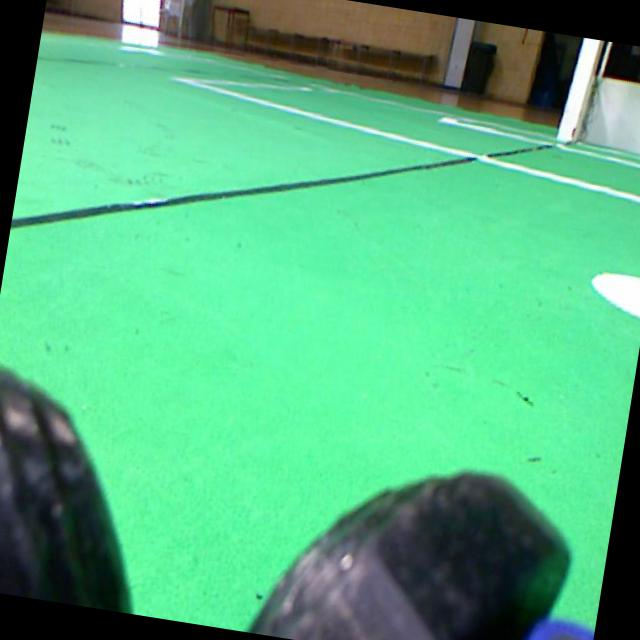goal: (557, 38, 602, 142)
